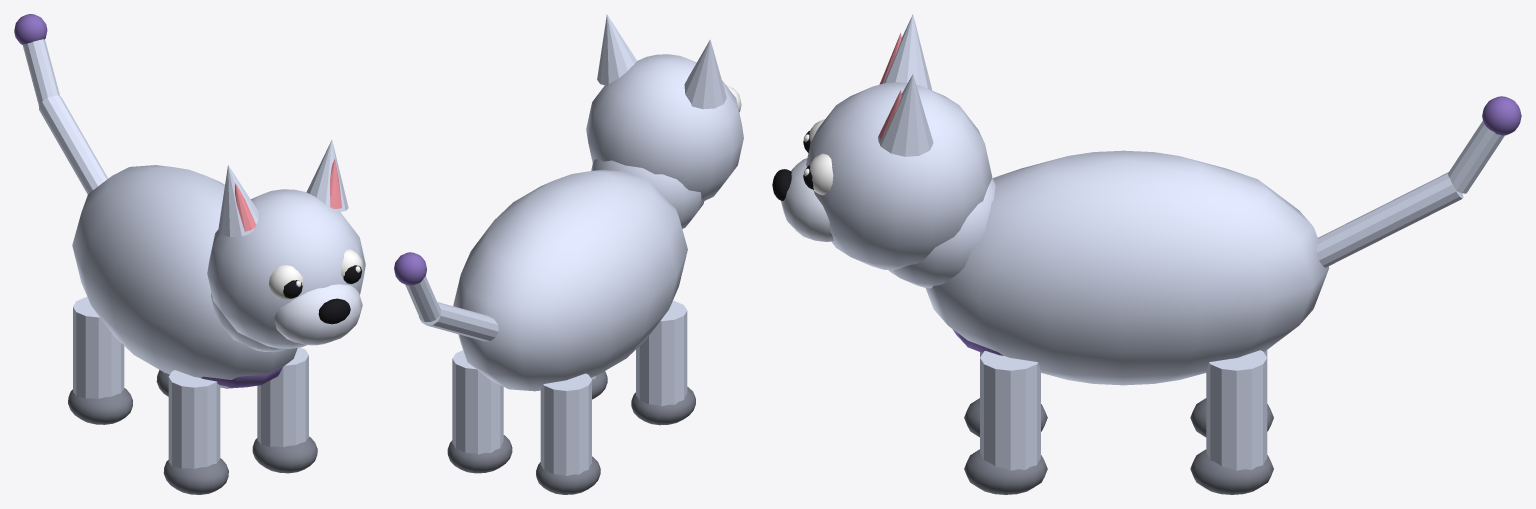
3 renders of one model, left to right at view 1: azimuth 30°, elevation 25°; view 2: azimuth 150°, elevation 25°; view 3: azimuth 270°, elevation 25°, orthographic. The views are drawn at different scales.
Parts seen in each view (by area): view 1: Ghost Cat; view 2: Ghost Cat; view 3: Ghost Cat.
Part boxes in pixels (<box>): Ghost Cat: <box>14,14,365,494</box>; Ghost Cat: <box>394,14,743,494</box>; Ghost Cat: <box>772,14,1521,494</box>.
Bounding box in the file's own units: 1.44 × 3.04 × 4.92.
Materials: 1 (1 with a texture image).
